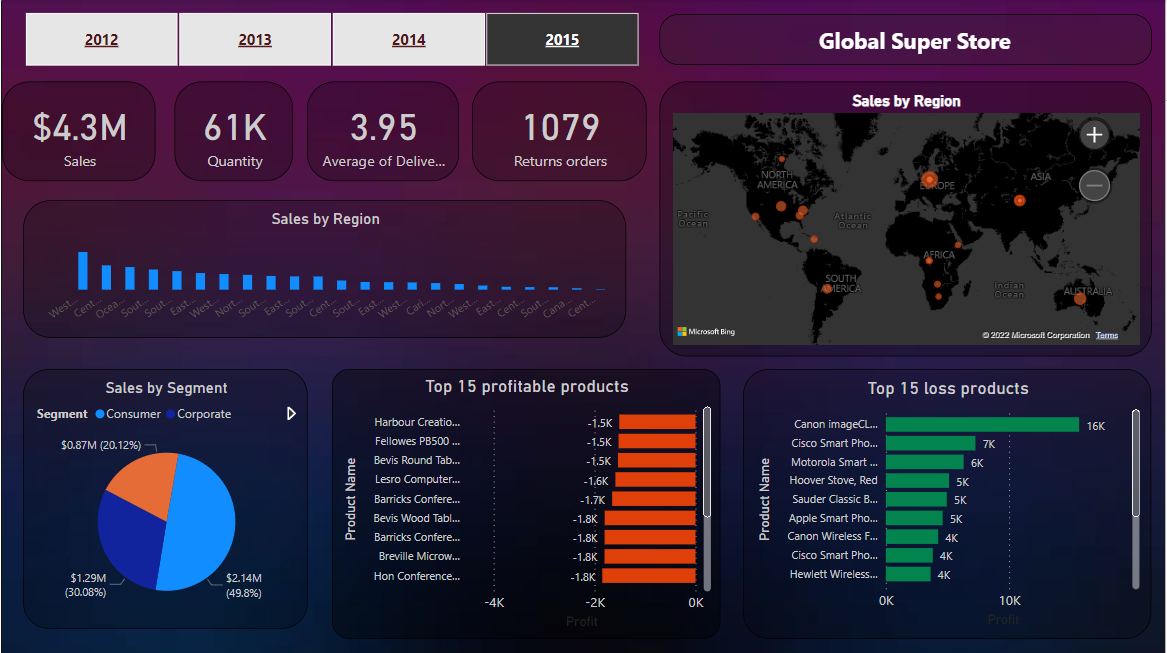

The page's visual inventory and layout, read from the dashboard file:
{"tool":"powerbi","page":{"name":"Page 1","canvas":[1280,720],"ordinal":0},"visuals":[{"type":"card","fields":{"Values":["Sum(Orders.Sales)"]},"box":[0,90.6,168.9,109.9],"z":0},{"type":"card","fields":{"Values":["Sum(Orders.Quantity)"]},"box":[189.5,90.6,130.5,109.9],"z":1000},{"type":"card","fields":{"Values":["Avg(Orders.Delivery Days)"]},"box":[335.1,90.6,167.6,109.9],"z":2000},{"type":"slicer","fields":{"Values":["Orders.Year"]},"box":[0,8.2,723.8,71.4],"z":3000},{"type":"card","fields":{"Values":["Sum(Returns.Returns orders)"]},"box":[516.4,90.6,192.3,109.9],"z":4000},{"type":"map","fields":{"Category":["Orders.Region"],"Size":["Sum(Orders.Sales)"]},"box":[723.2,90.7,541.7,302.5],"z":5000},{"type":"clusteredBarChart","title":"Top 15 loss products","fields":{"Category":["Orders.Product Name"],"Y":["Sum(Orders.Profit)"]},"box":[790.5,420.7,449.6,295.6],"z":6000},{"type":"clusteredBarChart","title":"Top 15 profitable products","fields":{"Category":["Orders.Product Name"],"Y":["Sum(Orders.Profit)"]},"box":[362.6,406.5,427.1,296.7],"z":7000},{"type":"pieChart","fields":{"Category":["Orders.Segment"],"Y":["Sum(Orders.Sales)"]},"box":[23.3,406.5,313.1,285.7],"z":8000},{"type":"ribbonChart","fields":{"Category":["Orders.Region"],"Y":["Sum(Orders.Sales)"]},"box":[23.3,221.1,663.3,151.1],"z":9000},{"type":"textbox","box":[723.2,16.5,541.7,56.4],"z":10000}]}

Visuals, with their boxes in screenshot pixels (x1, y1, x2, y2), scaled from the page's 1280x720 canvas onto the 1167x653 screenshot:
card - Sum(Orders.Sales): bbox(0, 82, 154, 182)
card - Sum(Orders.Quantity): bbox(173, 82, 292, 182)
card - Avg(Orders.Delivery Days): bbox(306, 82, 458, 182)
slicer - Orders.Year: bbox(0, 7, 660, 72)
card - Sum(Returns.Returns orders): bbox(471, 82, 646, 182)
map - Orders.Region x Sum(Orders.Sales): bbox(659, 82, 1153, 357)
"Top 15 loss products" clusteredBarChart: bbox(721, 382, 1131, 650)
"Top 15 profitable products" clusteredBarChart: bbox(331, 369, 720, 638)
pieChart - Orders.Segment x Sum(Orders.Sales): bbox(21, 369, 307, 628)
ribbonChart - Orders.Region x Sum(Orders.Sales): bbox(21, 201, 626, 338)
textbox: bbox(659, 15, 1153, 66)
